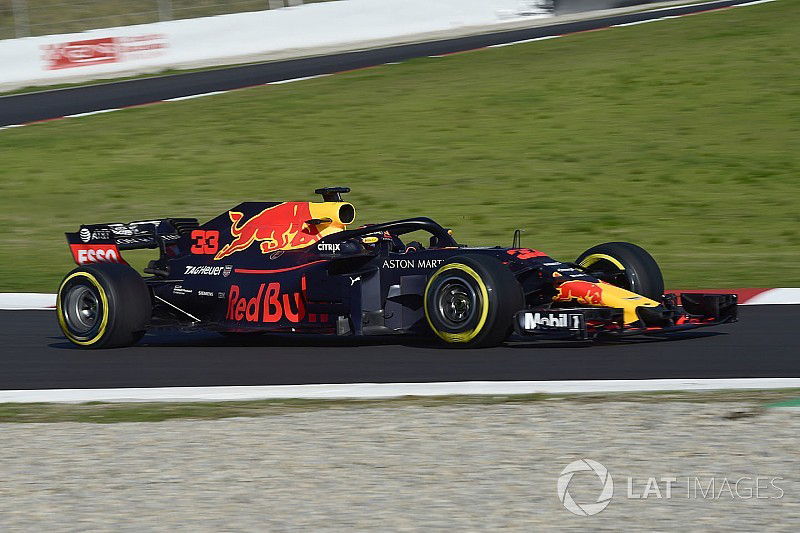F1 Car: (51, 180, 742, 353)
